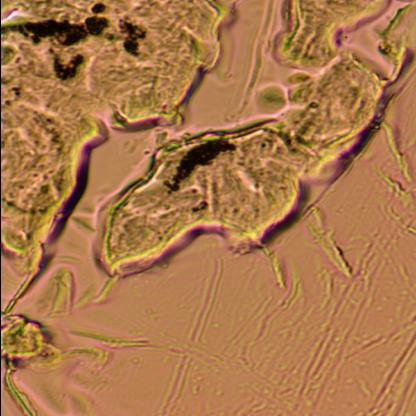Normal: (20, 0, 416, 297)
